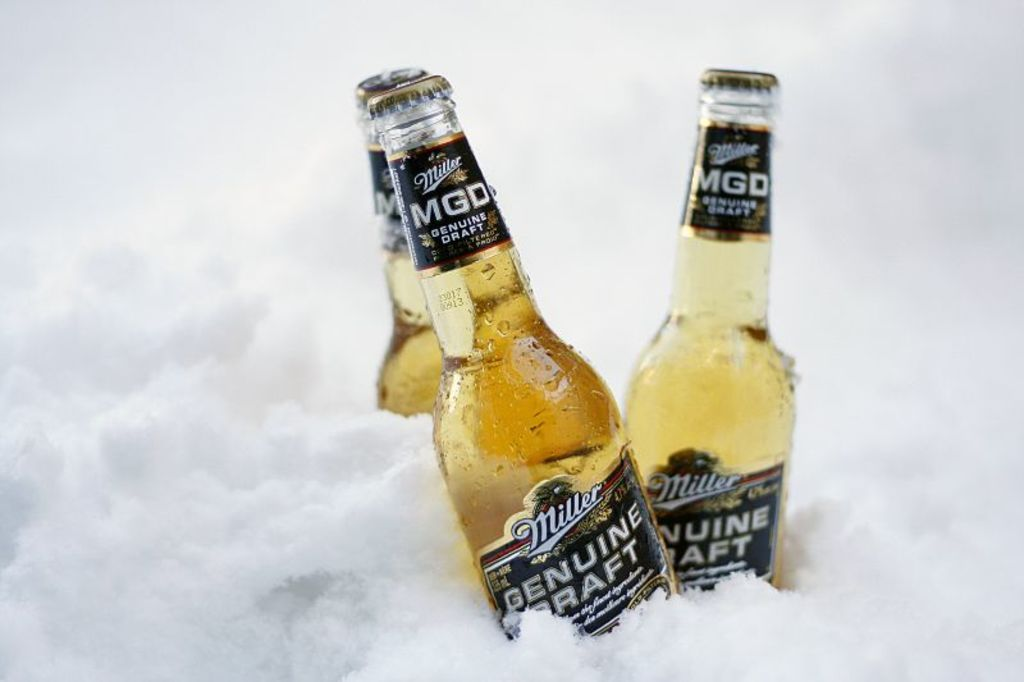Beer: (355, 67, 675, 648), (608, 70, 798, 589), (344, 46, 451, 437)
